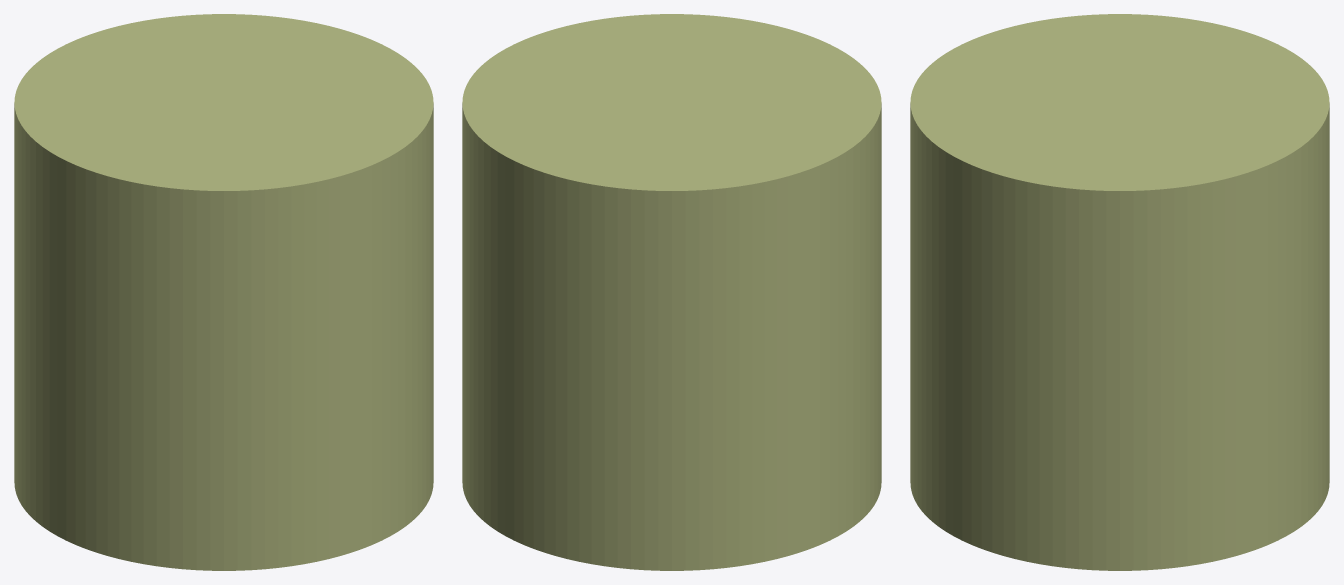
Rendered from terrain-base-b4bb83.glb.
The picture shows the model from 3 angles, left to right: view 1: azimuth 30°, elevation 25°; view 2: azimuth 150°, elevation 25°; view 3: azimuth 270°, elevation 25°; orthographic projection.
Parts seen in each view (by area): view 1: terrain-base-b4bb83; view 2: terrain-base-b4bb83; view 3: terrain-base-b4bb83.
Part boxes in pixels (x1=…): terrain-base-b4bb83: x1=14, y1=14, x2=433, y2=570; terrain-base-b4bb83: x1=462, y1=14, x2=881, y2=570; terrain-base-b4bb83: x1=910, y1=14, x2=1329, y2=570.
Bounding box in the file's own units: 1 × 1 × 1.
